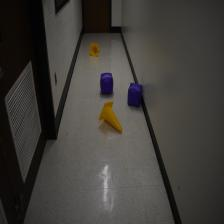cone: (99, 101, 122, 133), (90, 44, 99, 57)
cube: (127, 83, 142, 108), (100, 73, 114, 94)
